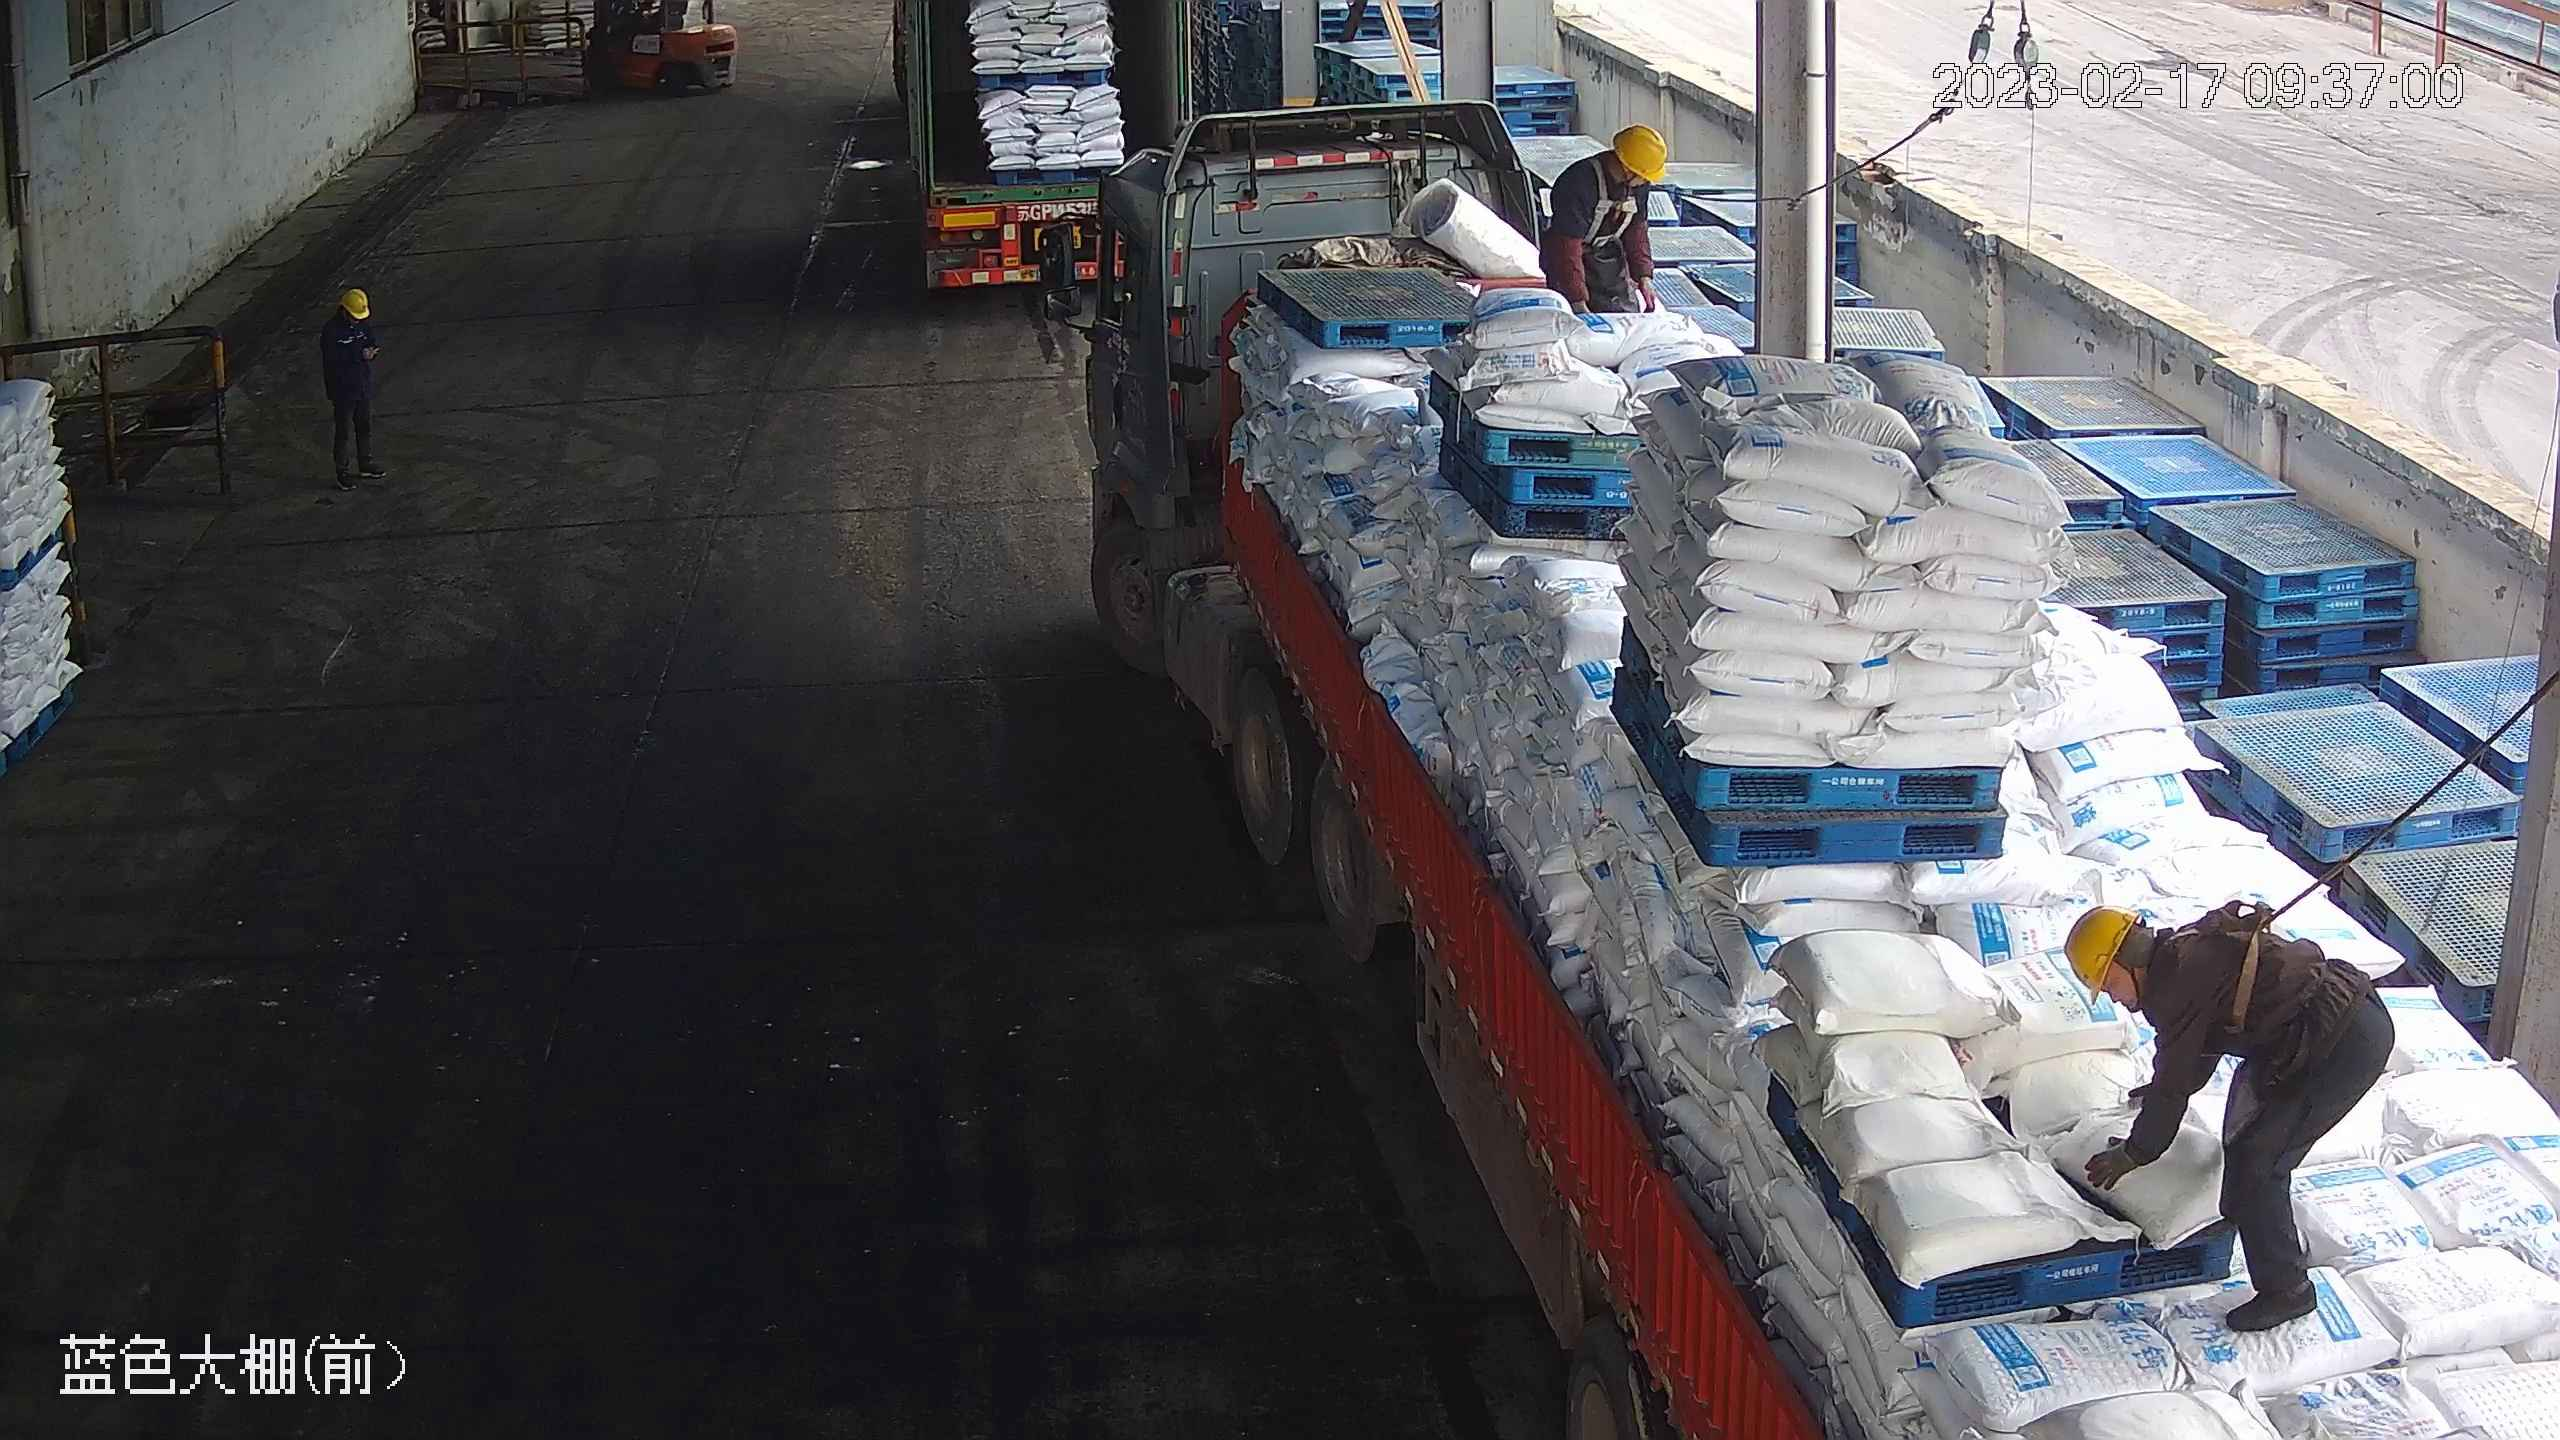belt: (2165, 892, 2298, 1032), (1574, 154, 1649, 240)
head: (2059, 897, 2246, 1048), (1557, 119, 1667, 215), (320, 286, 376, 349)
helmet: (2061, 902, 2139, 1005), (1610, 120, 1669, 183), (338, 285, 369, 315)
people: (2058, 895, 2397, 1335), (1535, 118, 1671, 320), (318, 286, 388, 491)
truck: (1043, 147, 2556, 1438), (890, 1, 1191, 294)
